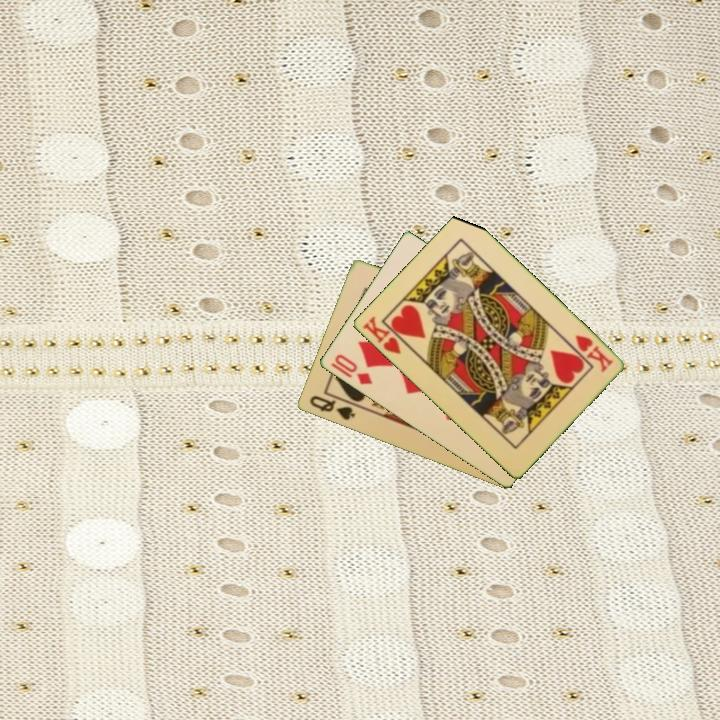10d: (330, 350, 375, 388)
Kh: (359, 312, 412, 357), (571, 331, 616, 376)
Qs: (306, 392, 358, 423)
